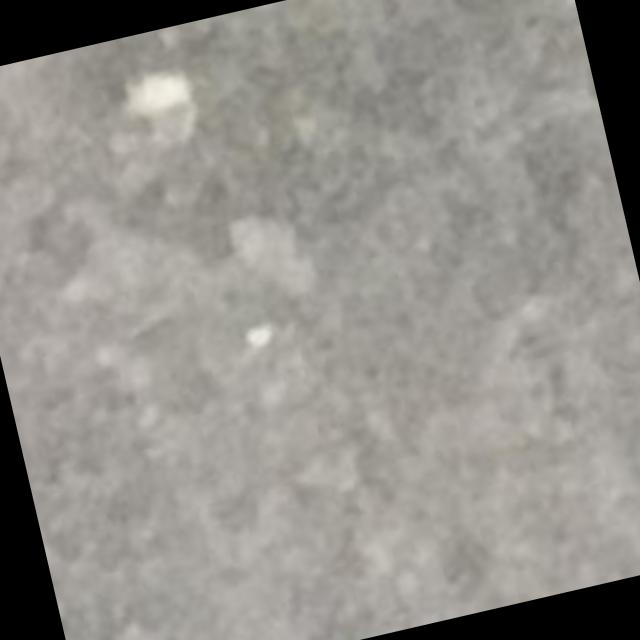peeling plaster: (124, 71, 198, 146)
